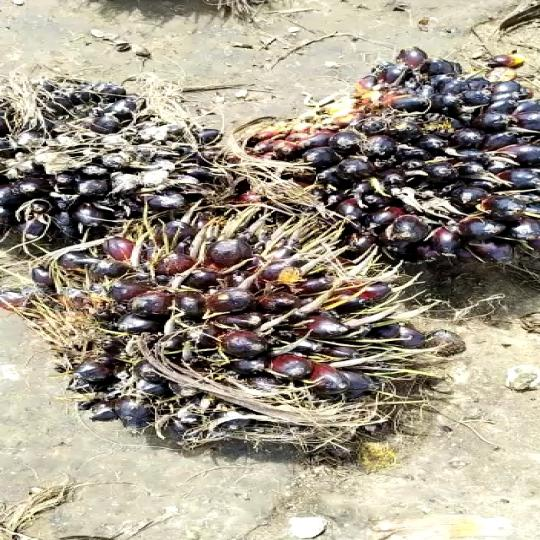mentah: (43, 209, 431, 450), (265, 53, 540, 275), (0, 83, 250, 268)
